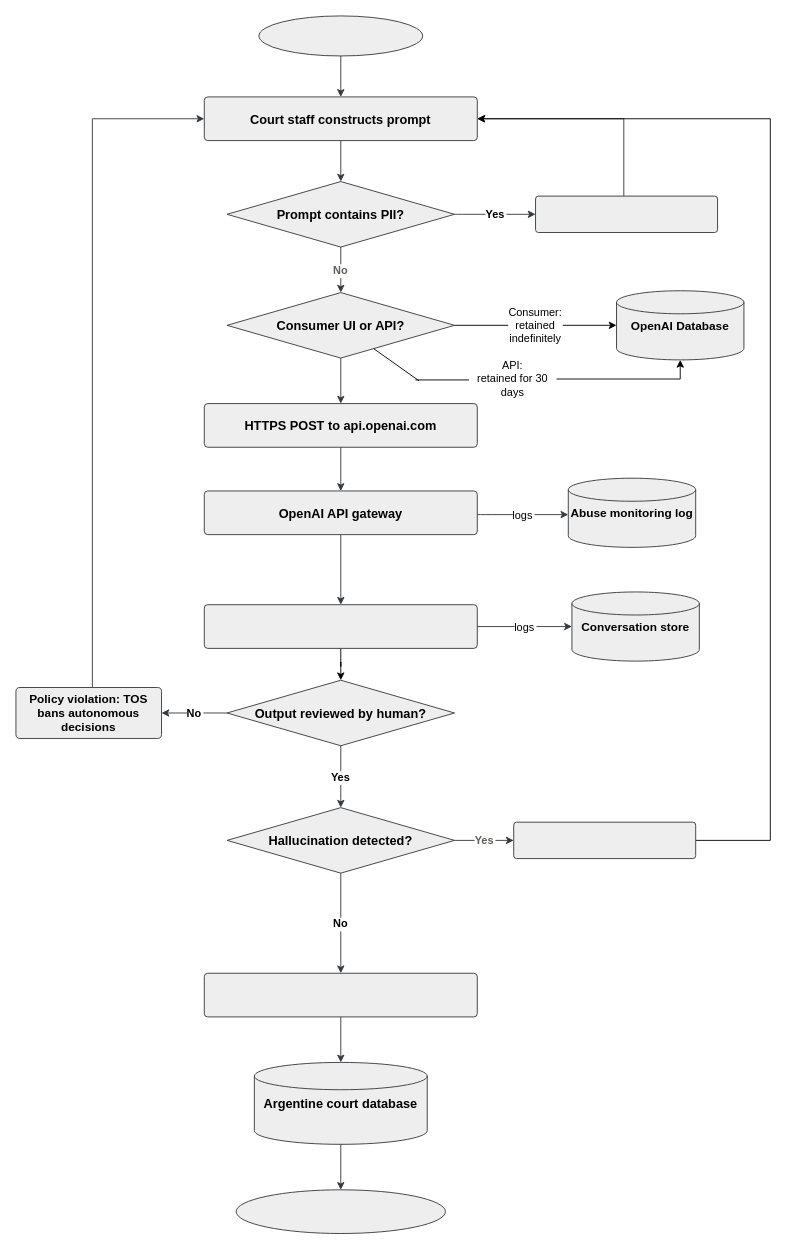
Image size: 794x1249. Some labels were removed from this diagram. The shapes that lost their labels are listed below. From the top down, each one's centre as x and y in pixels, then its label:
At point 340,35: "Start".
At point 626,214: "Elevated privacy risk".
At point 340,626: "Response returned via HTTPS".
At point 604,840: "Output discarded prompt revised".
At point 340,994: "Output incorporated into ruling".
At point 340,1211: "End: judicial record updated".
